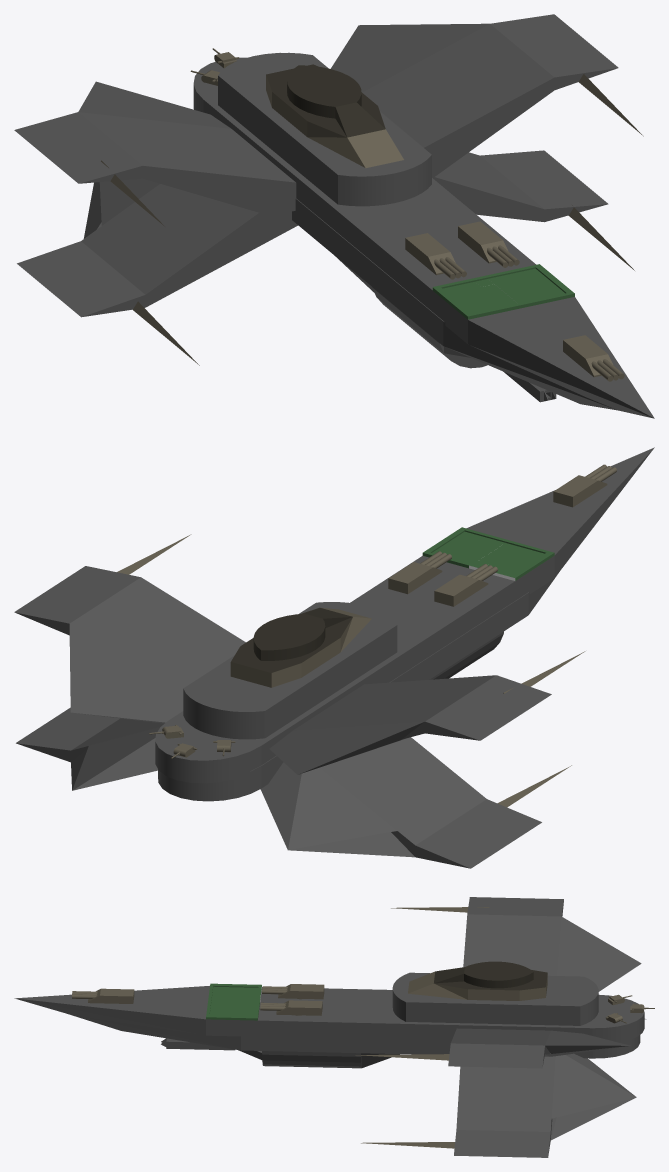
Rendered from Space Cruiser.fbx.
3 renders of one model, top to bottom at view 1: azimuth 30°, elevation 25°; view 2: azimuth 150°, elevation 25°; view 3: azimuth 270°, elevation 25°, orthographic. The views are drawn at different scales.
Parts seen in each view (by area): view 1: Hull1, Wing_1_3, Wing_1_2, Wing_1_1, Cruiser_1_1, Wing_1_4, Turret3, Turret2, Turret1; view 2: Hull1, Wing_1_2, Wing_1_3, Wing_1_1, Cruiser_1_1, Wing_1_4, Turret2, Turret3, Turret1; view 3: Hull1, Wing_1_4, Wing_1_1, Cruiser_1_1, Wing_1_3, Turret1, Turret2, Turret3, Blaster3.
Boxes of the visible parts, x1,y1,x2,y2 form: Hull1: [193, 52, 654, 418]; Wing_1_3: [330, 14, 618, 177]; Wing_1_2: [17, 178, 297, 317]; Wing_1_1: [14, 81, 296, 215]; Cruiser_1_1: [266, 64, 574, 319]; Wing_1_4: [433, 150, 608, 222]; Turret3: [563, 335, 624, 381]; Turret2: [458, 221, 519, 267]; Turret1: [405, 233, 466, 279]; Hull1: [155, 447, 654, 801]; Wing_1_2: [260, 737, 541, 868]; Wing_1_3: [14, 566, 245, 723]; Wing_1_1: [269, 675, 551, 774]; Cruiser_1_1: [230, 527, 554, 687]; Wing_1_4: [16, 707, 163, 790]; Turret2: [388, 551, 451, 594]; Turret3: [553, 464, 616, 507]; Turret1: [434, 564, 497, 606]; Hull1: [14, 972, 644, 1068]; Wing_1_4: [454, 1053, 636, 1157]; Wing_1_1: [463, 897, 641, 991]; Cruiser_1_1: [206, 961, 547, 1020]; Wing_1_3: [448, 1028, 630, 1068]; Turret1: [262, 984, 324, 999]; Turret2: [260, 1000, 322, 1015]; Turret3: [72, 988, 134, 1003]; Blaster3: [361, 1142, 454, 1148].
Size of the model in its own units: 46876 by 13504 by 74042.
